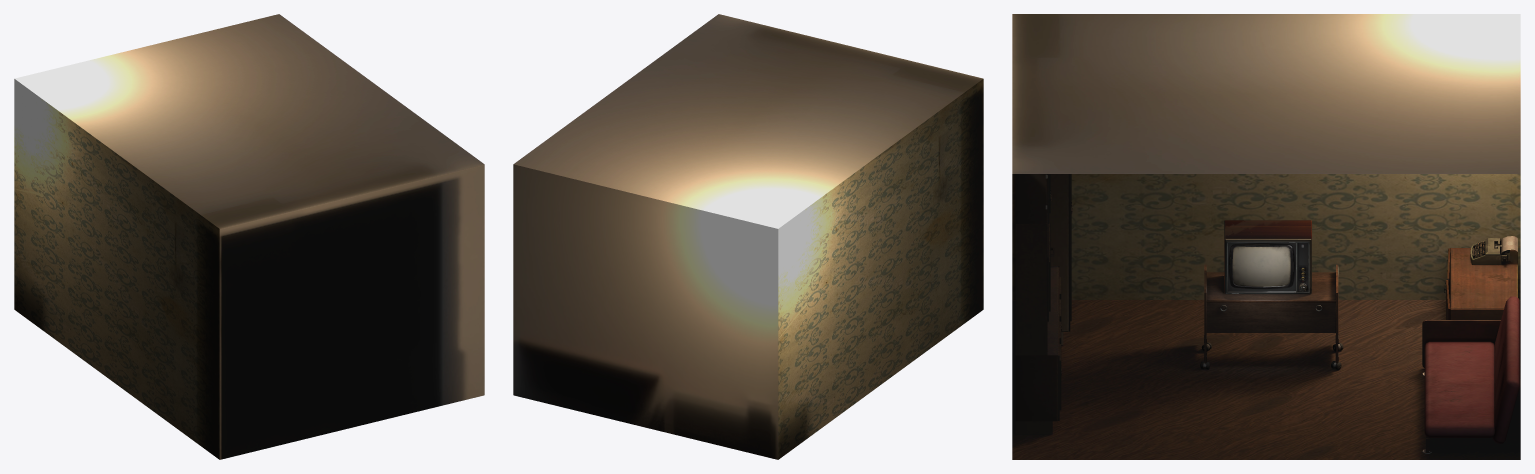
The model's file is watching_tv-v1-compressed.glb.
The picture shows the model from 3 angles, left to right: view 1: azimuth 30°, elevation 25°; view 2: azimuth 150°, elevation 25°; view 3: azimuth 270°, elevation 25°; orthographic projection. The views are drawn at different scales.
Visible parts, largest first — view 1: walls; view 2: walls; view 3: walls, others, main.
Part boxes in pixels (left/top/right/bottom): walls: left=14, top=14, right=484, bottom=459; walls: left=513, top=14, right=983, bottom=459; walls: left=1012, top=14, right=1520, bottom=459; others: left=1015, top=174, right=1519, bottom=453; main: left=1200, top=220, right=1343, bottom=369.
Bounding box in the file's own units: 2.4 × 2 × 3.22.
Materials: 3 (3 with a texture image).
